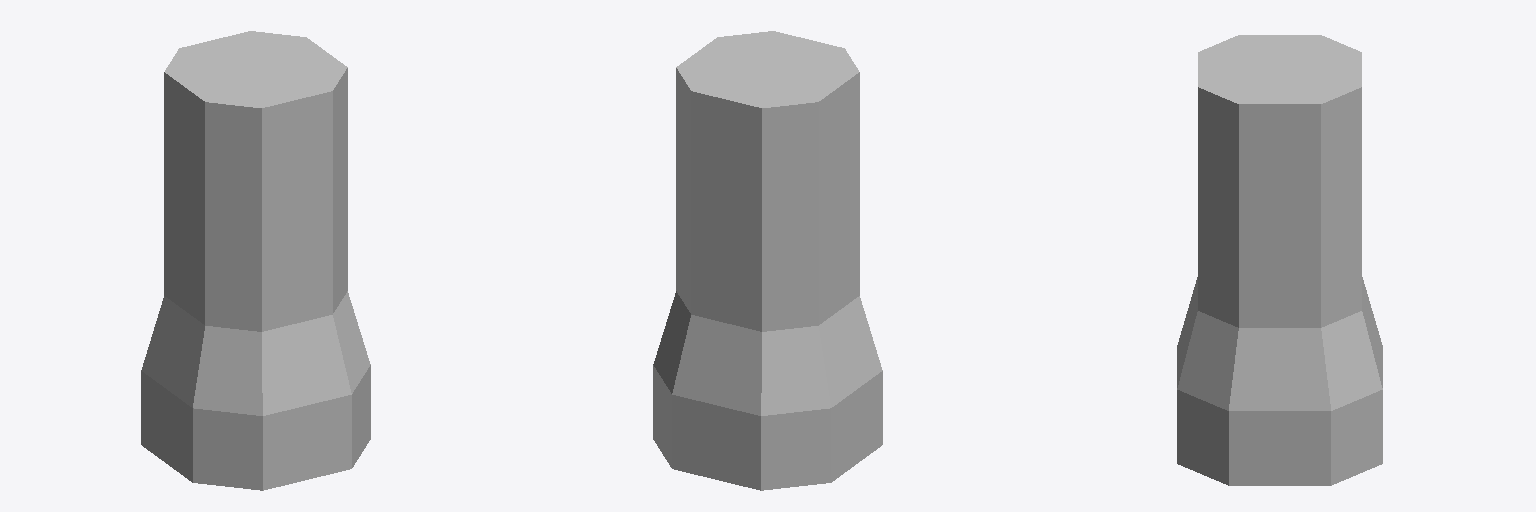
The model's file is support_bottom.obj.
3 renders of one model, left to right at view 1: azimuth 30°, elevation 25°; view 2: azimuth 150°, elevation 25°; view 3: azimuth 270°, elevation 25°, orthographic.
Visible parts, largest first — view 1: support_bottom; view 2: support_bottom; view 3: support_bottom.
Part boxes in pixels (x1,y1,x2,y2): support_bottom: (141, 31, 370, 490); support_bottom: (653, 31, 882, 490); support_bottom: (1177, 35, 1382, 485).
Bounding box in the file's own units: 0.5 × 1 × 0.5.